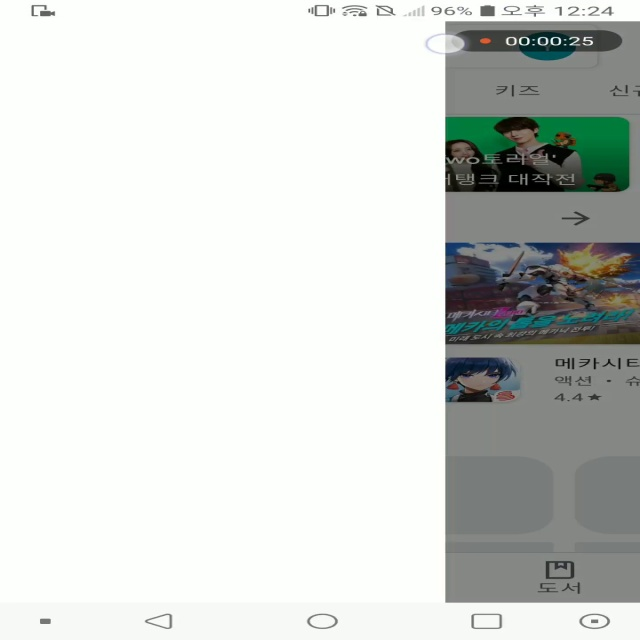Cursor: (424, 32, 468, 55)
